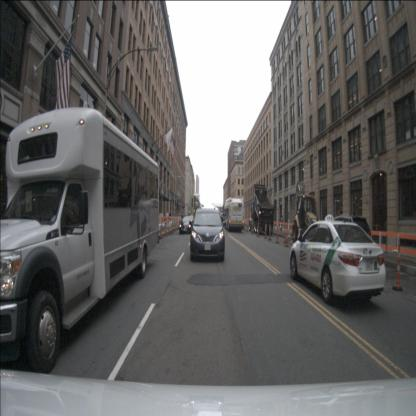cone: (392, 233, 403, 291), (284, 223, 289, 247), (275, 226, 280, 244), (268, 222, 272, 240), (159, 222, 163, 239), (256, 220, 260, 236), (164, 221, 168, 236), (264, 222, 267, 239), (177, 217, 180, 230), (251, 221, 254, 234), (282, 229, 286, 238), (171, 221, 174, 233), (246, 221, 249, 232), (174, 217, 176, 232), (168, 221, 170, 235), (244, 221, 246, 230)
